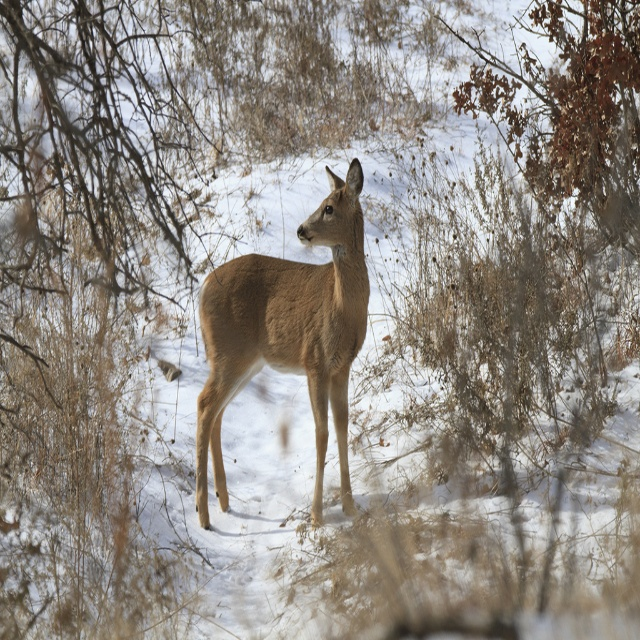Deer: (197, 156, 371, 533)
